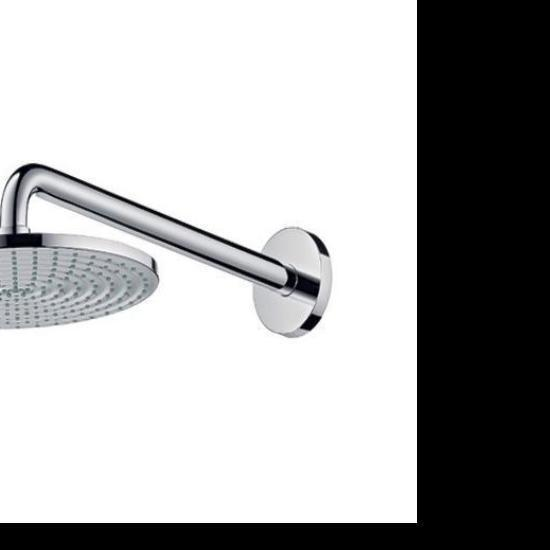Ducha: (0, 134, 328, 380)
